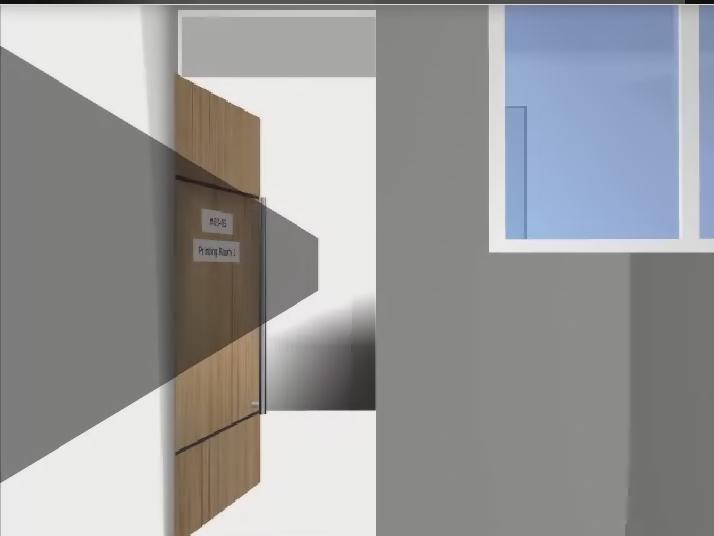door: (175, 74, 266, 536)
